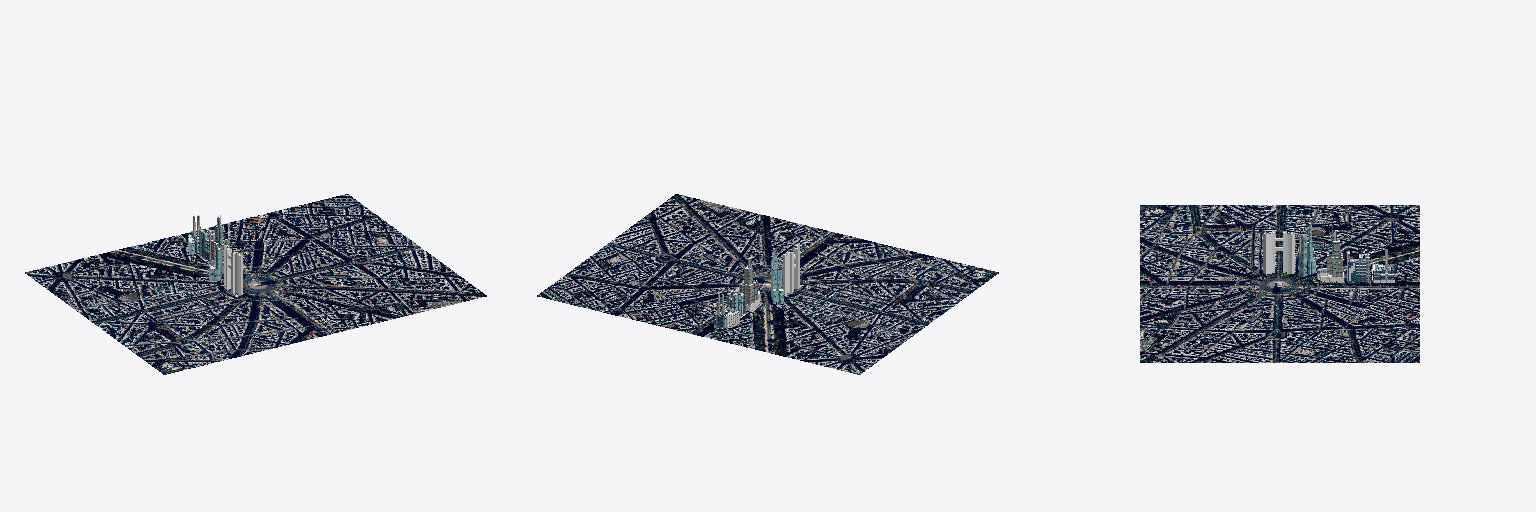
The picture shows the model from 3 angles: view 1: azimuth 30°, elevation 25°; view 2: azimuth 150°, elevation 25°; view 3: azimuth 270°, elevation 25°; orthographic projection.
Size of the model in its own units: 565 by 95.08 by 423.
Materials: 14 (10 with a texture image).